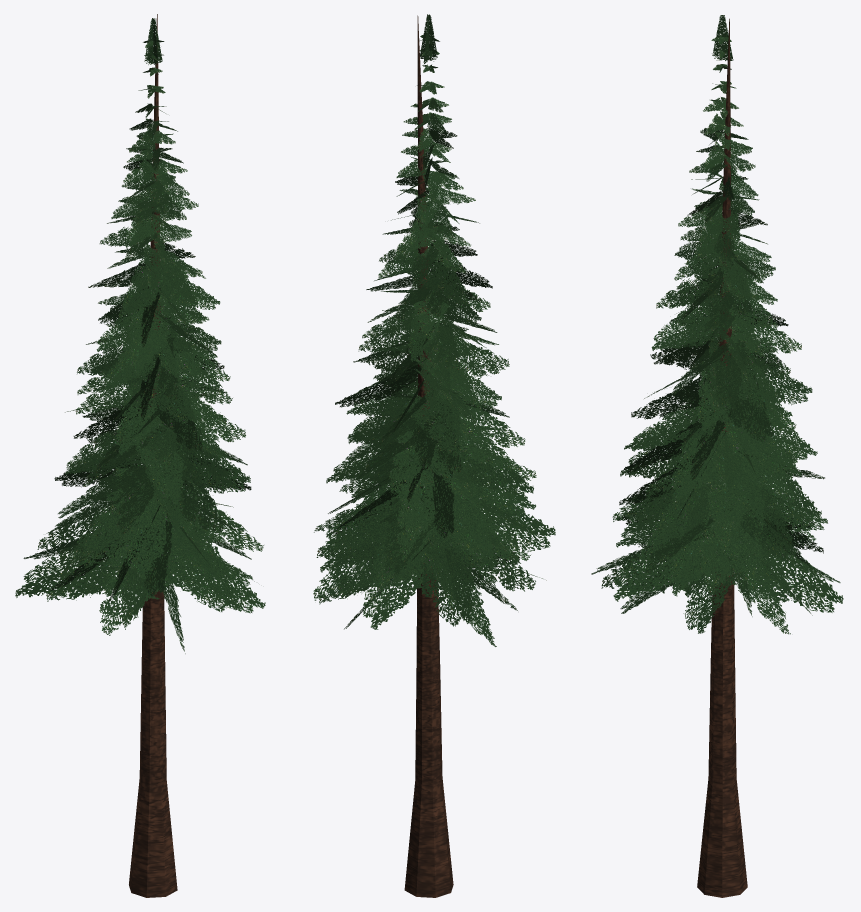
The model's file is SM_spruce_04.fbx.
3 renders of one model, left to right at view 1: azimuth 30°, elevation 25°; view 2: azimuth 150°, elevation 25°; view 3: azimuth 270°, elevation 25°, orthographic.
Parts seen in each view (by area): view 1: SM_spruce_04; view 2: SM_spruce_04; view 3: SM_spruce_04.
Boxes of the visible parts, x1,y1,x2,y2 form: SM_spruce_04: (15,14,265,897); SM_spruce_04: (313,14,555,897); SM_spruce_04: (591,15,843,897).
Bounding box in the file's own units: 7.7 × 30 × 8.09.
